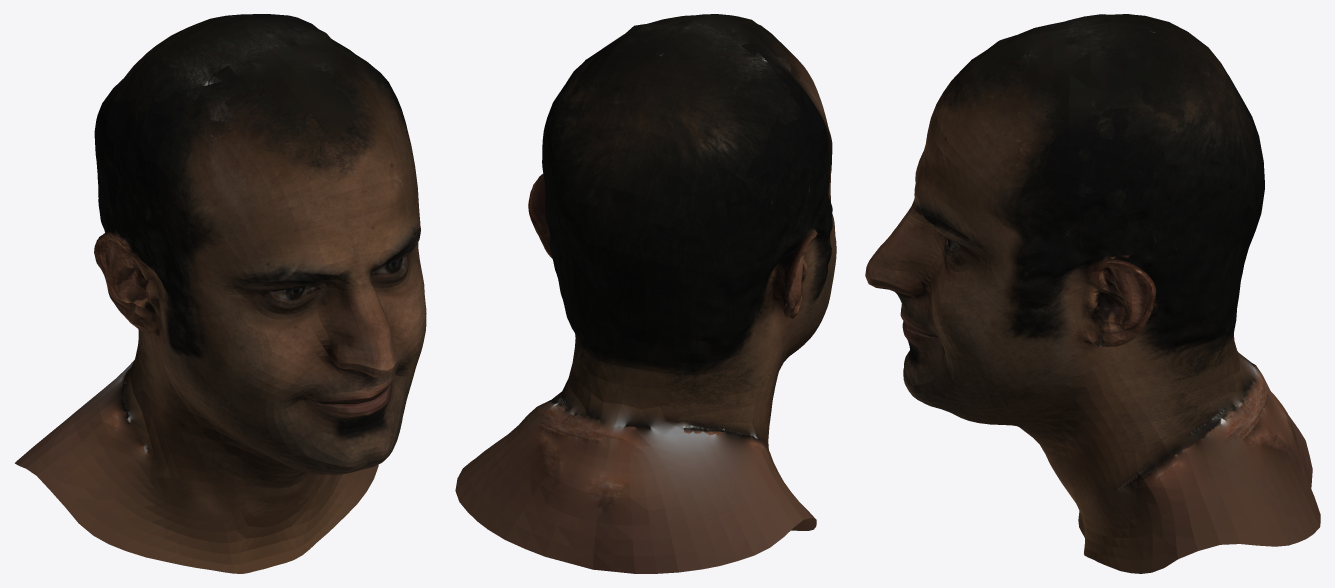
The picture shows the model from 3 angles, left to right: view 1: azimuth 30°, elevation 25°; view 2: azimuth 150°, elevation 25°; view 3: azimuth 270°, elevation 25°; orthographic projection. The views are drawn at different scales.
Visible parts, largest first — view 1: basemesh_2022_06_07_R3DS_V3_2:ZBrush_defualt_group; view 2: basemesh_2022_06_07_R3DS_V3_2:ZBrush_defualt_group; view 3: basemesh_2022_06_07_R3DS_V3_2:ZBrush_defualt_group.
Part boxes in pixels (box(x1,y1,x2,y2)): basemesh_2022_06_07_R3DS_V3_2:ZBrush_defualt_group: box(15, 14, 426, 573); basemesh_2022_06_07_R3DS_V3_2:ZBrush_defualt_group: box(455, 14, 836, 573); basemesh_2022_06_07_R3DS_V3_2:ZBrush_defualt_group: box(865, 14, 1320, 573).
Size of the model in its own units: 227 by 340 by 271.
